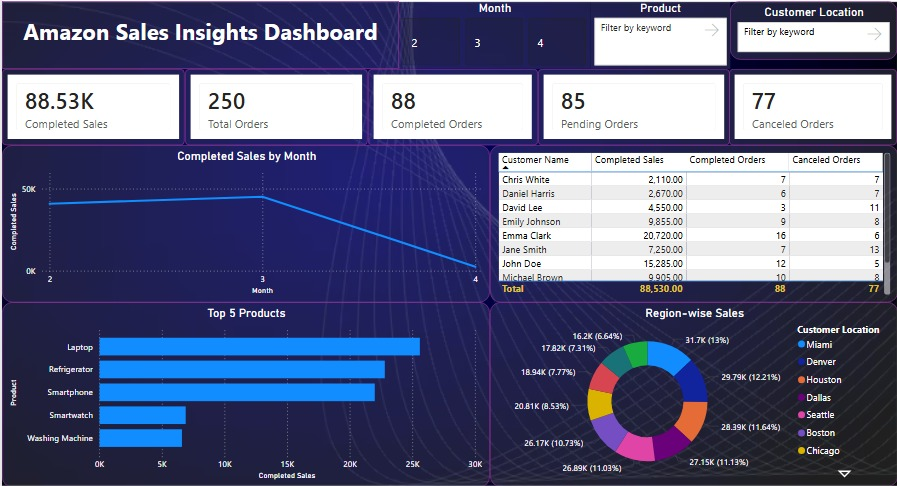

This screenshot's page, from the dashboard's own definition file:
{"tool":"powerbi","page":{"name":"Page 1","canvas":[1280,720],"ordinal":0},"visuals":[{"type":"cardVisual","fields":{"Data":["amazon_sales_data 2025.Completed Sales"]},"box":[0,107.1,261.4,108.6],"z":0},{"type":"cardVisual","fields":{"Data":["amazon_sales_data 2025.Total Orders"]},"box":[261.4,107.1,261.4,108.6],"z":1000},{"type":"cardVisual","fields":{"Data":["amazon_sales_data 2025.Completed Orders"]},"box":[522.9,107.1,242.9,108.6],"z":2000},{"type":"cardVisual","fields":{"Data":["amazon_sales_data 2025.Canceled Orders"]},"box":[1038.6,107.1,240,108.6],"z":3000},{"type":"cardVisual","fields":{"Data":["amazon_sales_data 2025.Pending Orders"]},"box":[765.7,107.1,274.3,108.6],"z":4000},{"type":"lineChart","fields":{"Y":["amazon_sales_data 2025.Completed Sales"],"Category":["amazon_sales_data 2025.Month"]},"box":[0,216,697.3,224.7],"z":5000},{"type":"barChart","title":"Top 5 Products","fields":{"Category":["amazon_sales_data 2025.Product"],"Y":["amazon_sales_data 2025.Completed Sales"]},"box":[0,440,696.7,265],"z":6000},{"type":"donutChart","title":"Region-wise Sales","fields":{"Category":["amazon_sales_data 2025.Customer Location"],"Y":["Sum(amazon_sales_data 2025.Total Sales)"]},"box":[697.1,440,582.9,264.3],"z":7000},{"type":"advancedSlicerVisual","fields":{"Values":["amazon_sales_data 2025.Month"]},"box":[567.1,10,274.3,97.1],"z":8000},{"type":"textSlicer","fields":{"Values":["amazon_sales_data 2025.Customer Location"]},"box":[1040,10,238.6,84.3],"z":9000},{"type":"textSlicer","fields":{"Values":["amazon_sales_data 2025.Product"]},"box":[841.4,10,198.6,97.1],"z":10000},{"type":"tableEx","fields":{"Values":["amazon_sales_data 2025.Customer Name","amazon_sales_data 2025.Completed Sales","amazon_sales_data 2025.Completed Orders","amazon_sales_data 2025.Canceled Orders"]},"box":[697.3,216,582.7,224.7],"z":11000},{"type":"textbox","box":[0,10,567.1,97.1],"z":12000}]}

Visuals, with their boxes on the page's 1280x720 design canvas (x1, y1, x2, y2). These are canvas units, not pixel positions in the 897x486 screenshot, which may show the page scaled, cropped or inside an application window:
cardVisual - amazon_sales_data 2025.Completed Sales: 0/107/261/216
cardVisual - amazon_sales_data 2025.Total Orders: 261/107/523/216
cardVisual - amazon_sales_data 2025.Completed Orders: 523/107/766/216
cardVisual - amazon_sales_data 2025.Canceled Orders: 1039/107/1279/216
cardVisual - amazon_sales_data 2025.Pending Orders: 766/107/1040/216
lineChart - amazon_sales_data 2025.Completed Sales x amazon_sales_data 2025.Month: 0/216/697/441
"Top 5 Products" barChart: 0/440/697/705
"Region-wise Sales" donutChart: 697/440/1280/704
advancedSlicerVisual - amazon_sales_data 2025.Month: 567/10/841/107
textSlicer - amazon_sales_data 2025.Customer Location: 1040/10/1279/94
textSlicer - amazon_sales_data 2025.Product: 841/10/1040/107
tableEx - amazon_sales_data 2025.Customer Name x amazon_sales_data 2025.Completed Sales: 697/216/1280/441
textbox: 0/10/567/107
